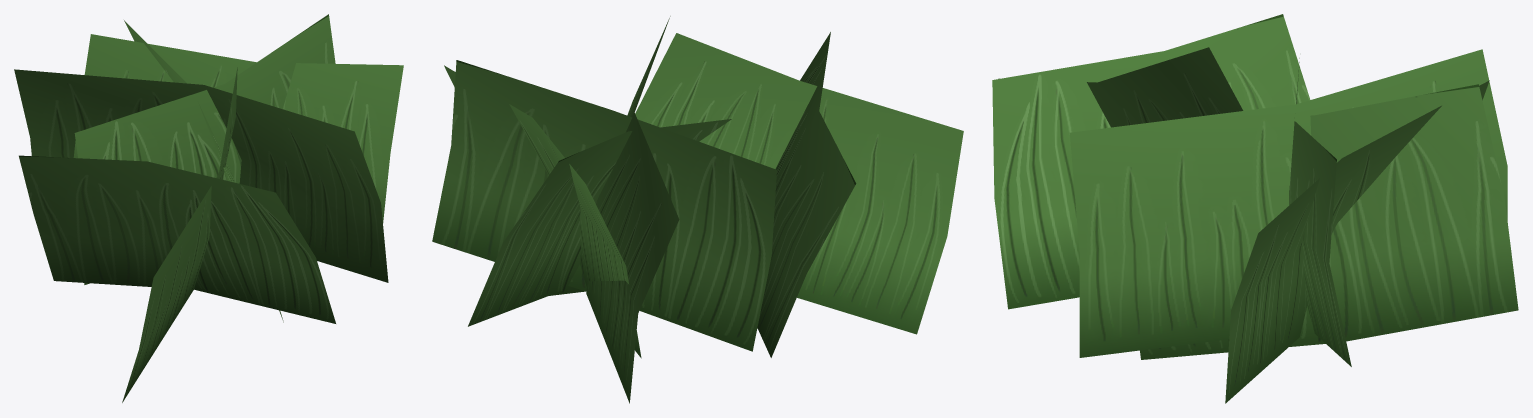
File: GrassPatch.fbx
The picture shows the model from 3 angles, left to right: view 1: azimuth 30°, elevation 25°; view 2: azimuth 150°, elevation 25°; view 3: azimuth 270°, elevation 25°; orthographic projection. The views are drawn at different scales.
Parts seen in each view (by area): view 1: GrassPatch_01; view 2: GrassPatch_01; view 3: GrassPatch_01.
Boxes of the visible parts, x1,y1,x2,y2 form: GrassPatch_01: (14,14,403,402); GrassPatch_01: (432,16,963,403); GrassPatch_01: (992,14,1518,403).
Bounding box in the file's own units: 2.39 × 1.6 × 2.34.
